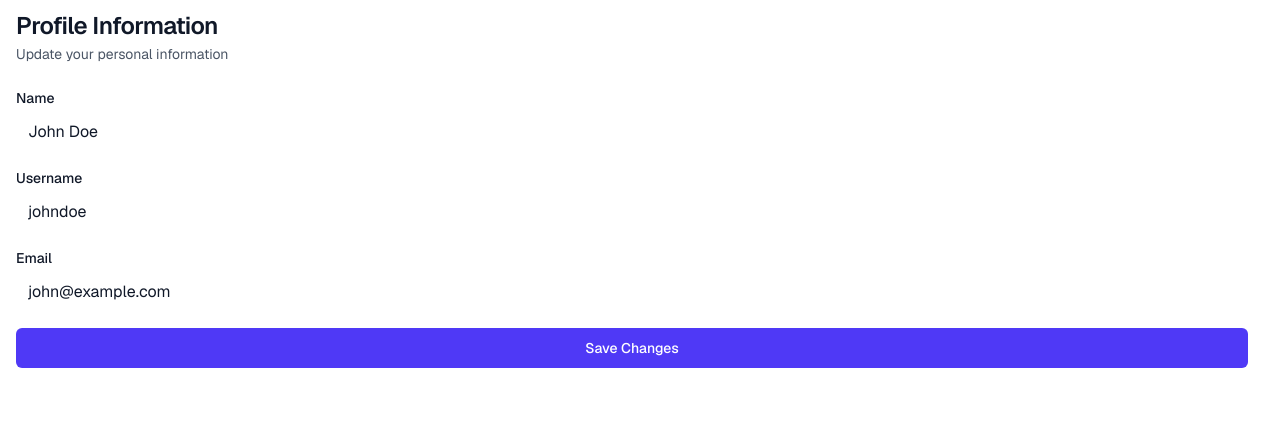
ProfileInformationUpdateClient › should show error when name is empty
Clear the field labelled "Name": (632, 132) [16,112,1248,152]
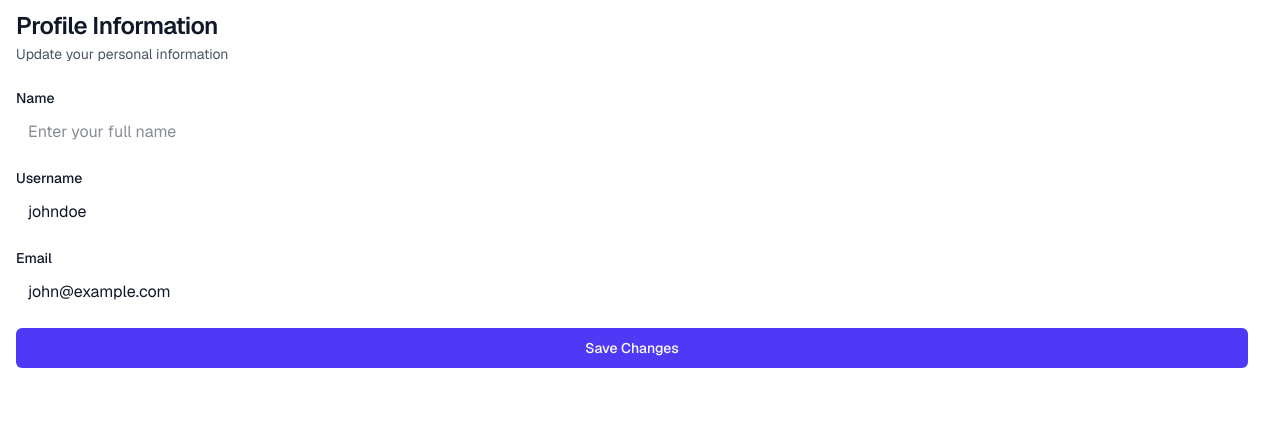
Submit the form "Name Username Email Save Changes"
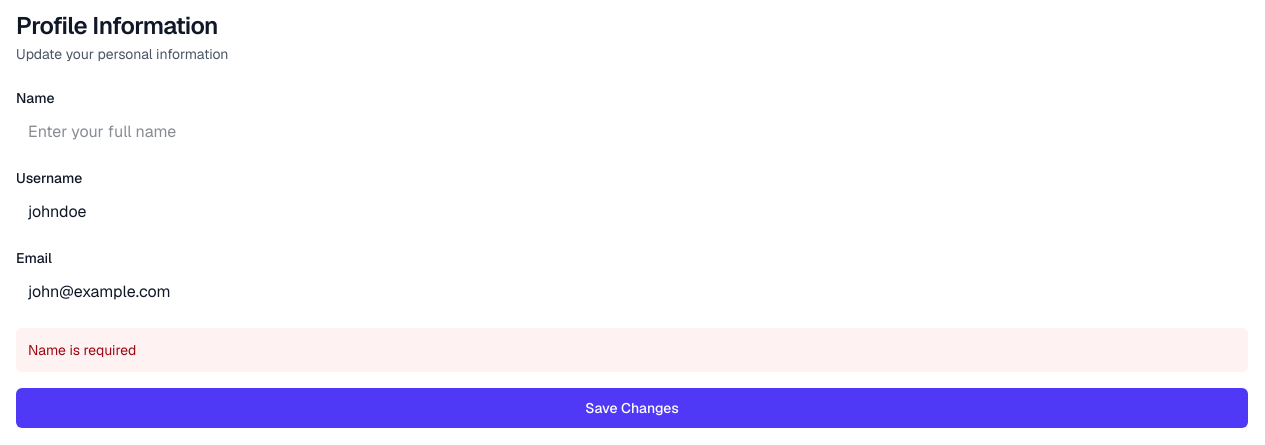
Expected: the text "Name is required" is shown, [28,341,136,359]
